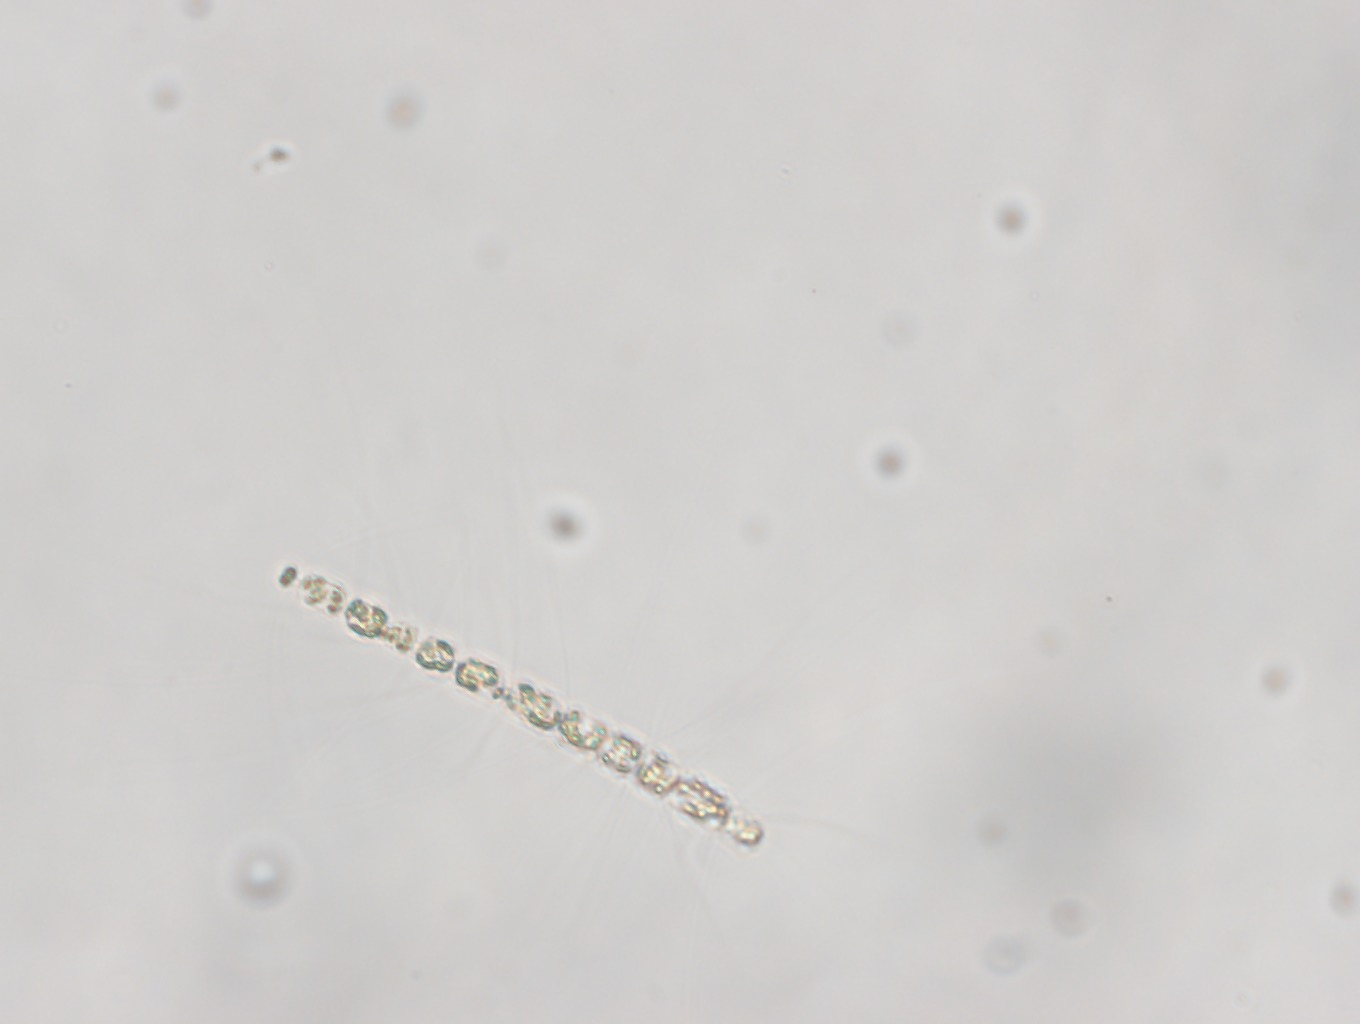chaetoceros: (219, 482, 755, 919)
